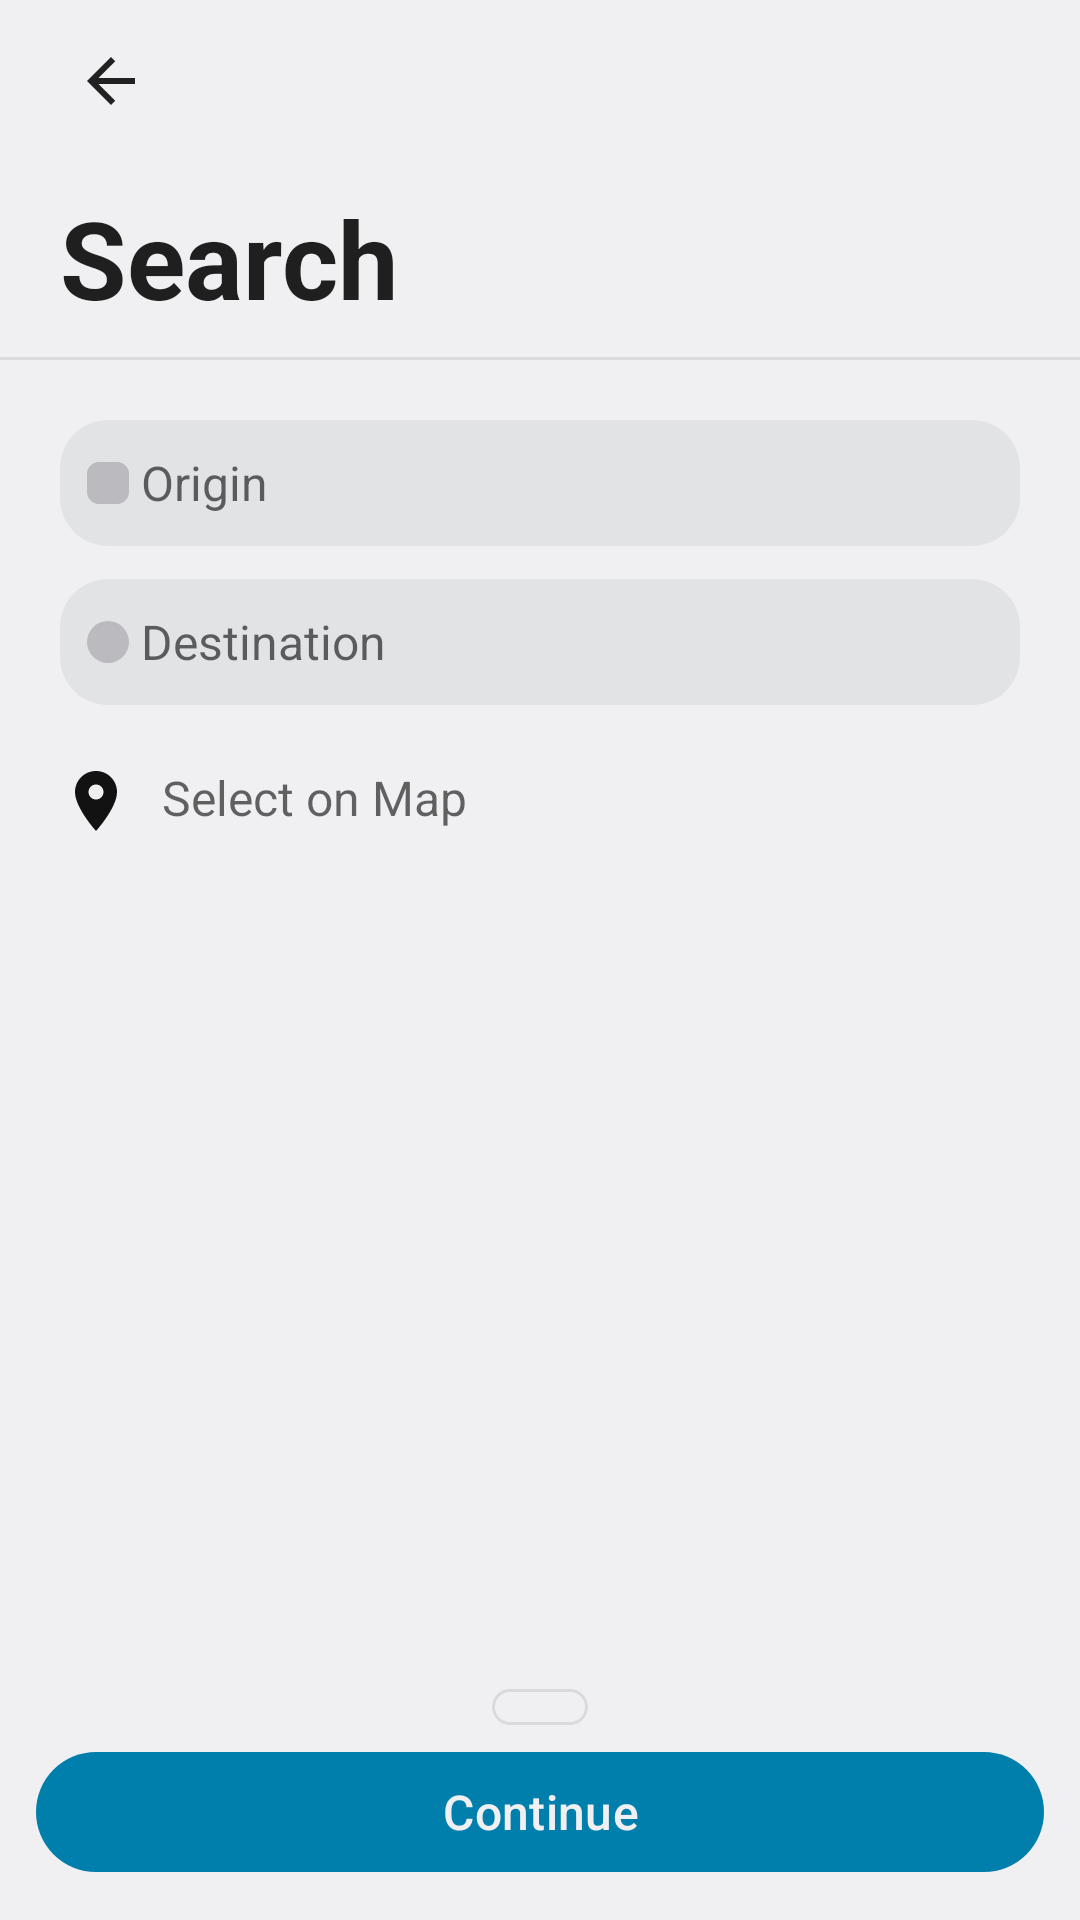

Icons on this 1080 x 1920 Android screen, each with the point to tap as (x=x, y=y):
arrow back: (x=111, y=81)
location: (x=96, y=801)
